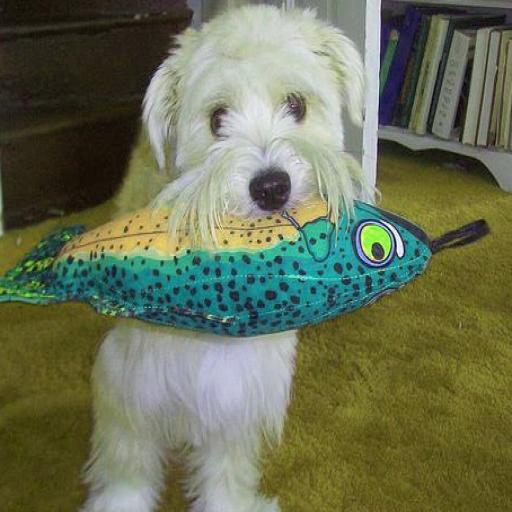dog_face: (142, 13, 380, 238)
